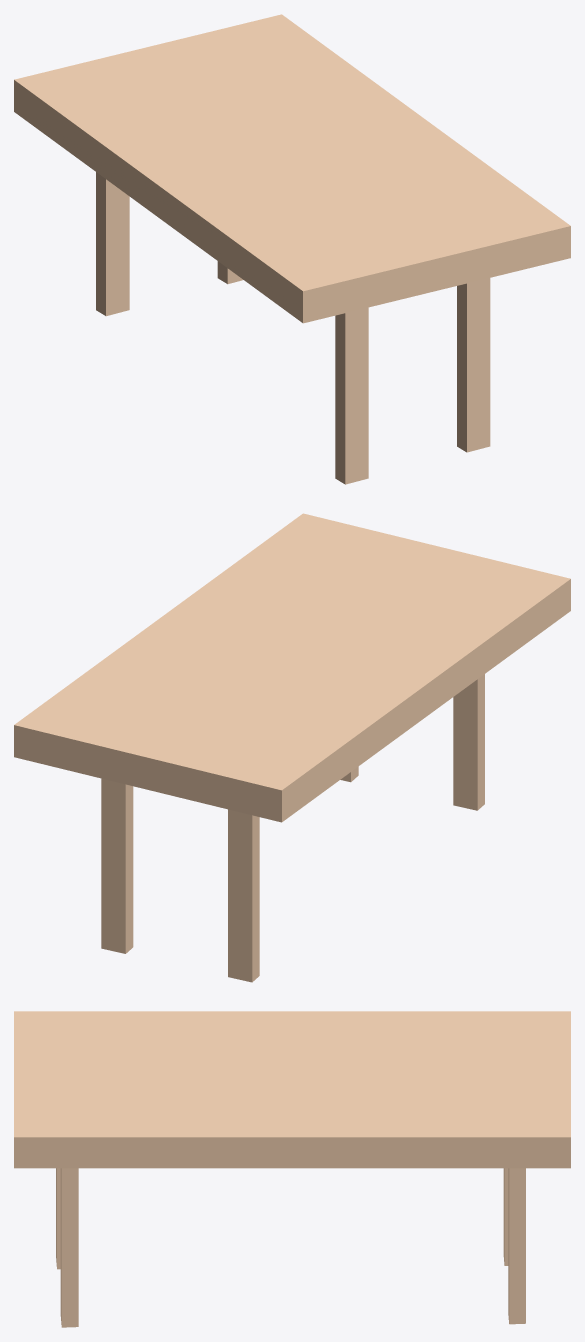
3 views of the same model, one above another, from view 1: azimuth 30°, elevation 25°; view 2: azimuth 150°, elevation 25°; view 3: azimuth 270°, elevation 25° (orthographic). The views are drawn at different scales.
Visible parts, largest first — view 1: OJ4_3; view 2: OJ4_3; view 3: OJ4_3.
Part boxes in pixels (left/top/right/bottom): OJ4_3: left=14, top=14, right=570, bottom=484; OJ4_3: left=14, top=513, right=570, bottom=982; OJ4_3: left=14, top=1011, right=570, bottom=1327.
Bounding box in the file's own units: 1 × 0.8025 × 1.87.
1 material, 1 textured.
